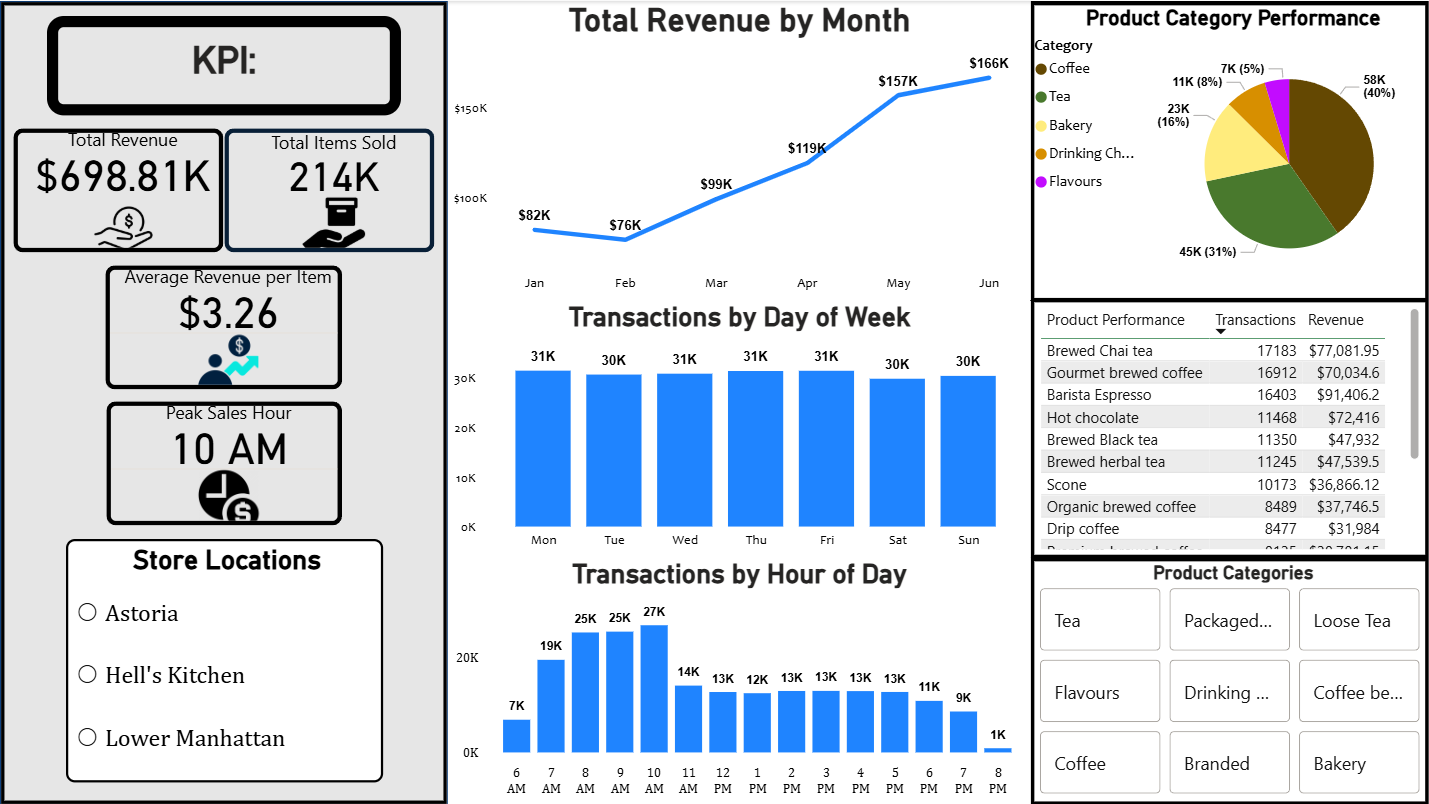

The dashboard page shown, as its layout file describes it:
{"tool":"powerbi","page":{"name":"Final Dashboard","canvas":[1280,720],"ordinal":0},"visuals":[{"type":"shape","box":[0,0,401.1,720],"z":0},{"type":"shape","box":[922.4,0,357.3,720],"z":1000},{"type":"cardVisual","fields":{"Data":["Coffee Shop Sales.Total Revenue"]},"box":[0,102.2,212.2,135.6],"z":2000},{"type":"textbox","box":[42.2,13.3,316.7,88.9],"z":3000},{"type":"cardVisual","fields":{"Data":["Coffee Shop Sales.Total Items Sold"]},"box":[188.9,102.2,212.2,135.6],"z":4000},{"type":"cardVisual","fields":{"Data":["Coffee Shop Sales.Average Revenue per Item"]},"box":[82.2,224.4,236.7,135.6],"z":5000},{"type":"cardVisual","fields":{"Data":["Coffee Shop Sales.Peak Sales Hour Label"]},"box":[83.3,346.7,235.6,135.6],"z":6000},{"type":"listSlicer","fields":{"Values":["Coffee Shop Sales.store_location"]},"box":[58.9,482.2,284.4,217.8],"z":7000},{"type":"lineChart","title":"Total Revenue by Month","fields":{"Category":["Coffee Shop Sales.Month Name"],"Y":["Sum(Coffee Shop Sales.Revenue)"]},"box":[401.1,0,522.2,267.8],"z":8000},{"type":"columnChart","title":"Transactions by Day of Week","fields":{"Category":["Coffee Shop Sales.Weekday Name"],"Y":["Sum(Coffee Shop Sales.transaction_qty)"]},"box":[401.1,268.9,522.2,230],"z":9000},{"type":"columnChart","title":"Transactions by Hour of Day","fields":{"Y":["Sum(Coffee Shop Sales.transaction_qty)"],"Category":["Coffee Shop Sales.Hour Label"]},"box":[401.1,498.9,522.2,221.1],"z":10000},{"type":"pieChart","title":"Product Category Performance ","fields":{"Category":["Coffee Shop Sales.product_category"],"Y":["CountNonNull(Coffee Shop Sales.transaction_qty)"]},"box":[923.3,0.9,356.4,267.8],"z":11000},{"type":"tableEx","fields":{"Values":["Coffee Shop Sales.product_type","CountNonNull(Coffee Shop Sales.transaction_qty)","Sum(Coffee Shop Sales.Revenue)"]},"box":[923.3,266.9,356.4,231.9],"z":12000},{"type":"advancedSlicerVisual","fields":{"Values":["Coffee Shop Sales.product_category"]},"box":[923.3,498.8,356.4,221.2],"z":13000}]}

Visuals, with their boxes in screenshot pixels (x1, y1, x2, y2), scaled from the page's 1280x720 canvas onto the 1429x804 screenshot:
shape: [0, 0, 448, 803]
shape: [1030, 0, 1428, 803]
cardVisual - Coffee Shop Sales.Total Revenue: [0, 114, 237, 266]
textbox: [47, 15, 401, 114]
cardVisual - Coffee Shop Sales.Total Items Sold: [211, 114, 448, 266]
cardVisual - Coffee Shop Sales.Average Revenue per Item: [92, 251, 356, 402]
cardVisual - Coffee Shop Sales.Peak Sales Hour Label: [93, 387, 356, 539]
listSlicer - Coffee Shop Sales.store_location: [66, 538, 383, 782]
"Total Revenue by Month" lineChart: [448, 0, 1031, 299]
"Transactions by Day of Week" columnChart: [448, 300, 1031, 557]
"Transactions by Hour of Day" columnChart: [448, 557, 1031, 803]
"Product Category Performance " pieChart: [1031, 1, 1428, 300]
tableEx - Coffee Shop Sales.product_type x CountNonNull(Coffee Shop Sales.transaction_qty): [1031, 298, 1428, 557]
advancedSlicerVisual - Coffee Shop Sales.product_category: [1031, 557, 1428, 803]
